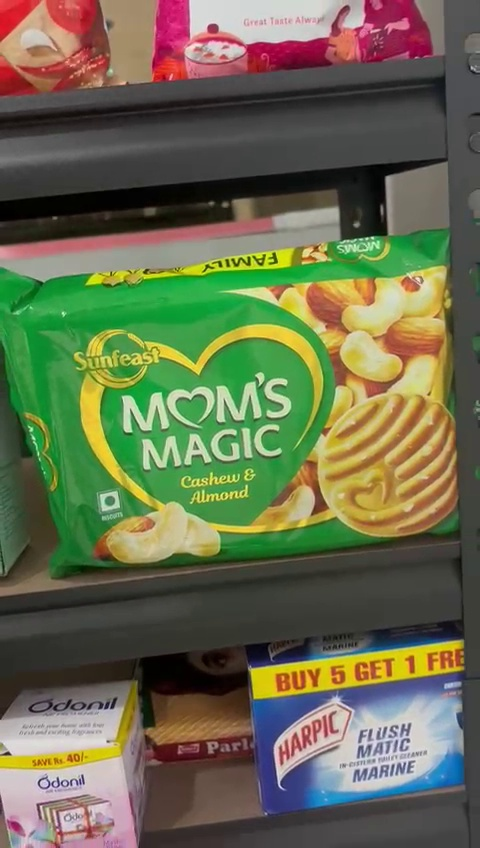Moms magic: (0, 269, 468, 556)
